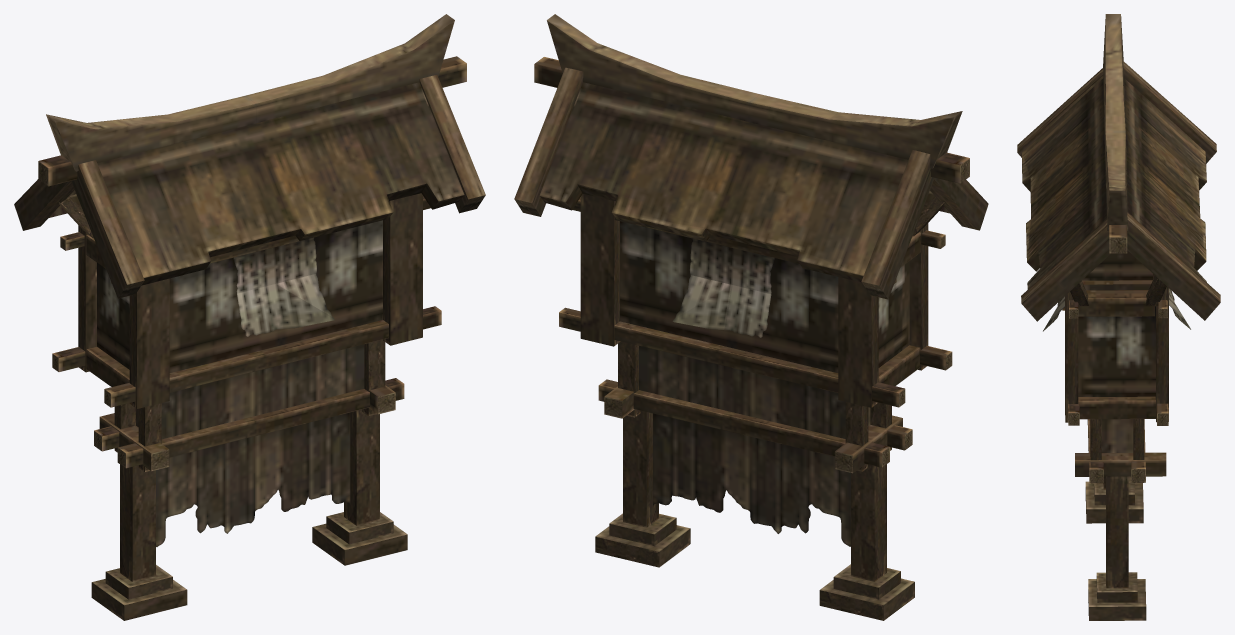
File: 告示栏01.fbx
The picture shows the model from 3 angles, left to right: view 1: azimuth 30°, elevation 25°; view 2: azimuth 150°, elevation 25°; view 3: azimuth 270°, elevation 25°; orthographic projection. The views are drawn at different scales.
Parts seen in each view (by area): view 1: qingmo_obj_273 [10484570]; view 2: qingmo_obj_273 [10484570]; view 3: qingmo_obj_273 [10484570].
Boxes of the visible parts, box(x1,y1,x2,y2) form: qingmo_obj_273 [10484570]: box(14, 14, 485, 620); qingmo_obj_273 [10484570]: box(514, 14, 988, 620); qingmo_obj_273 [10484570]: box(1017, 14, 1220, 620).
Size of the model in its own units: 25.7 by 11.94 by 29.51.
Materials: 1 (1 with a texture image).
